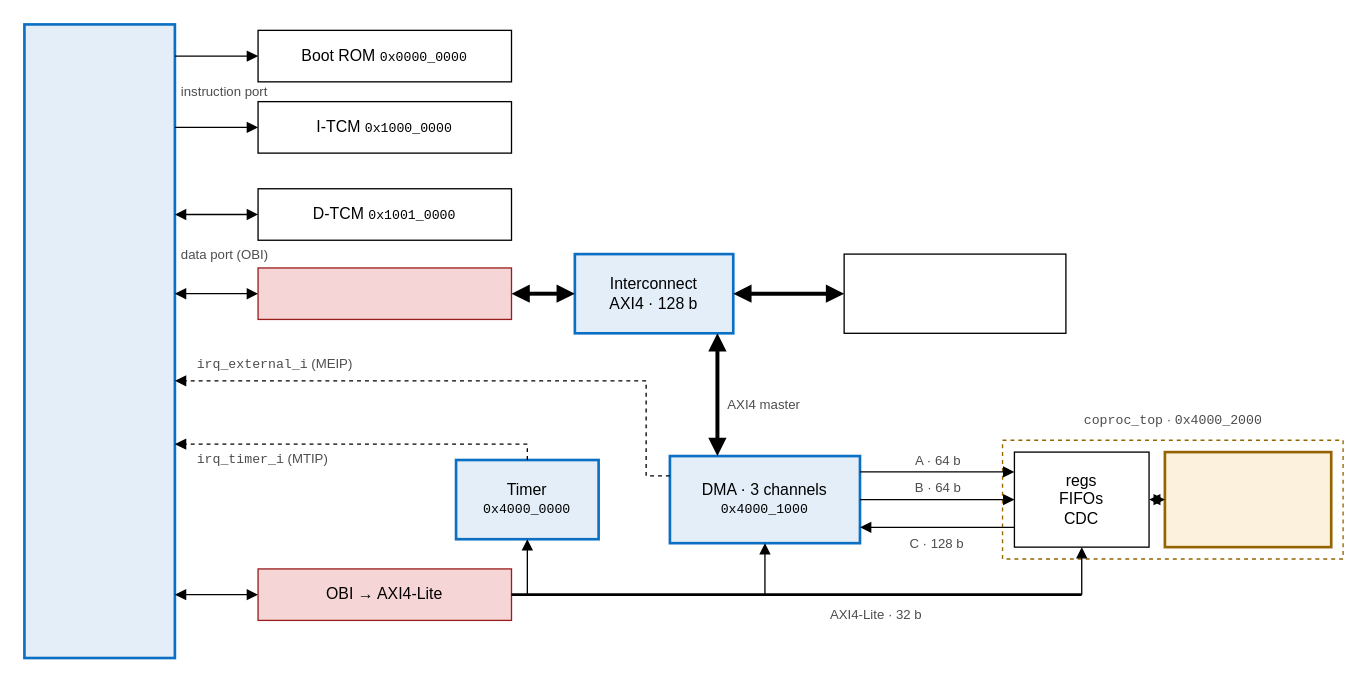
The diagram is 1366 pixels wide and 681 high, and some of its shapes have lost their labels. Each missing label, with the centre of its shape:
"coproc_core array 8×8 clk_acc_i" goes at point (1247, 499).
"L2 SRAM 64 KiB 2 banks · 0x2000_0000" goes at point (954, 293).
"OBI → AXI4" goes at point (384, 293).
"rv32_core 5 stages RV32I + Zicsr M-mode" goes at point (99, 340).
